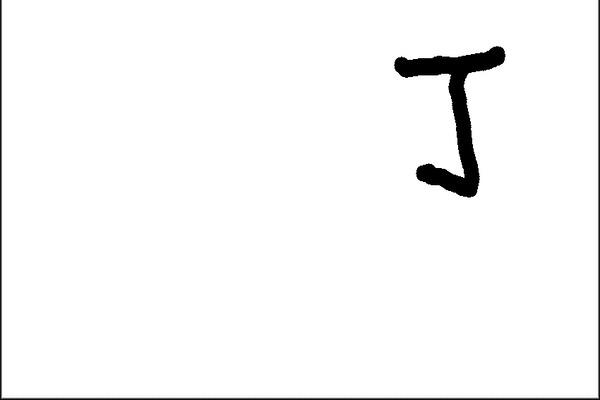J: (386, 40, 515, 201)
